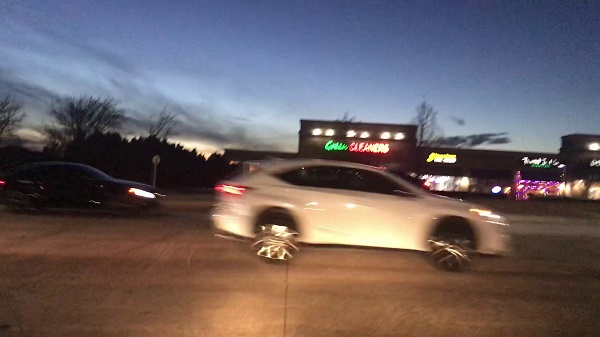car: (212, 154, 509, 273), (4, 160, 167, 216)
